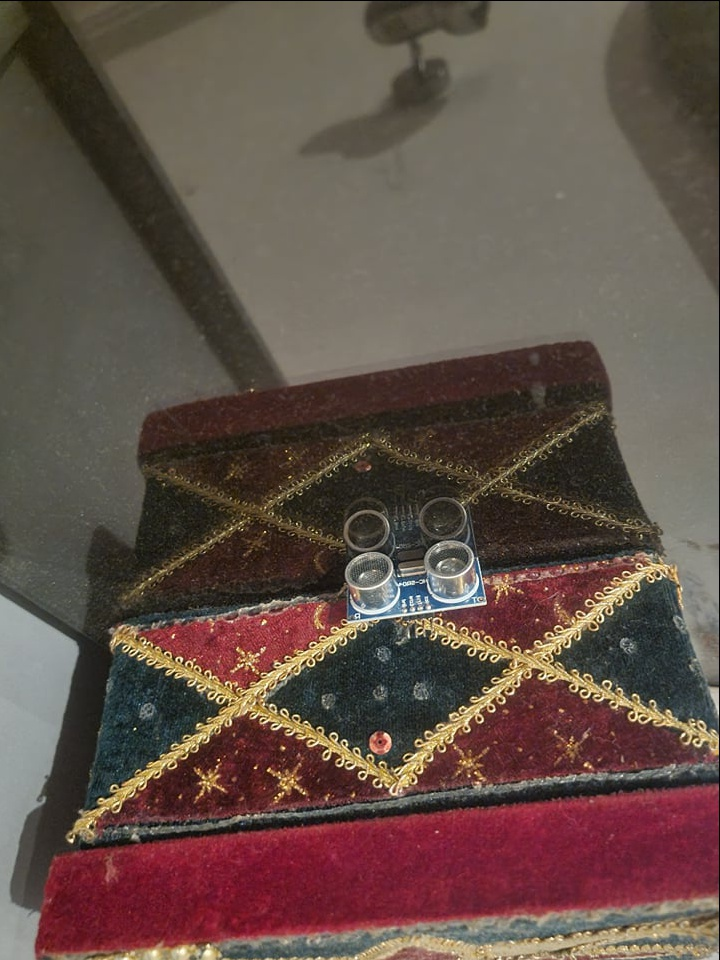SENSOR: (347, 536, 488, 623)
